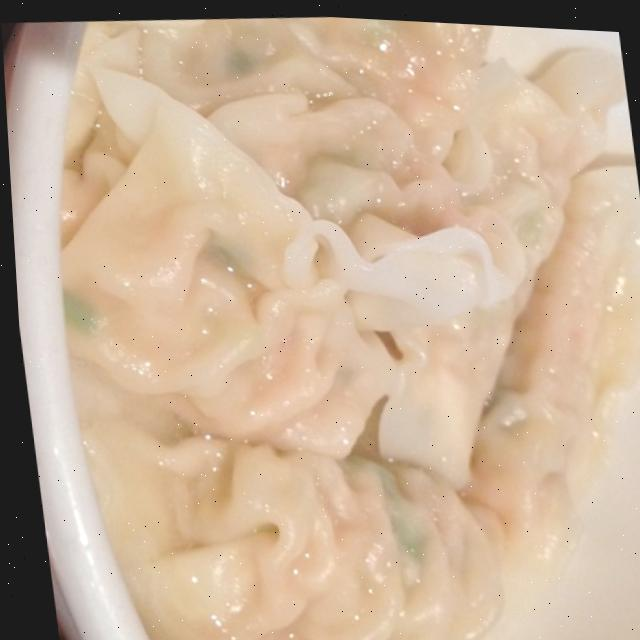带馅早点: (2, 0, 640, 640)
